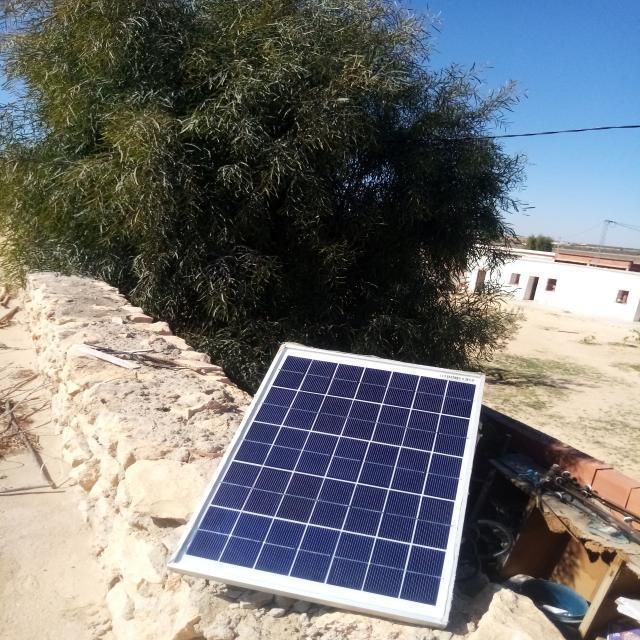Normal Solar Panel: (170, 345, 482, 625)
